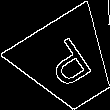P_SE: (37, 32, 99, 94)
